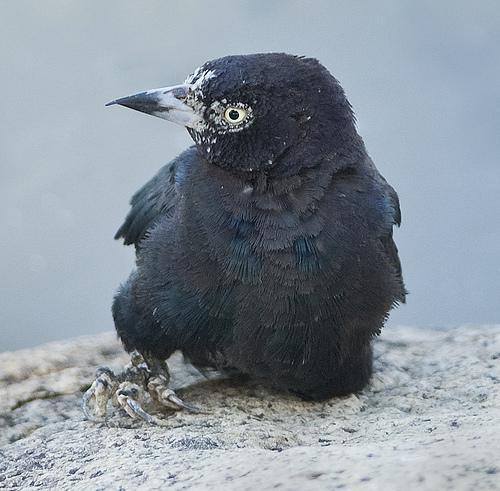009.Brewer_Blackbird: (80, 52, 412, 432)
